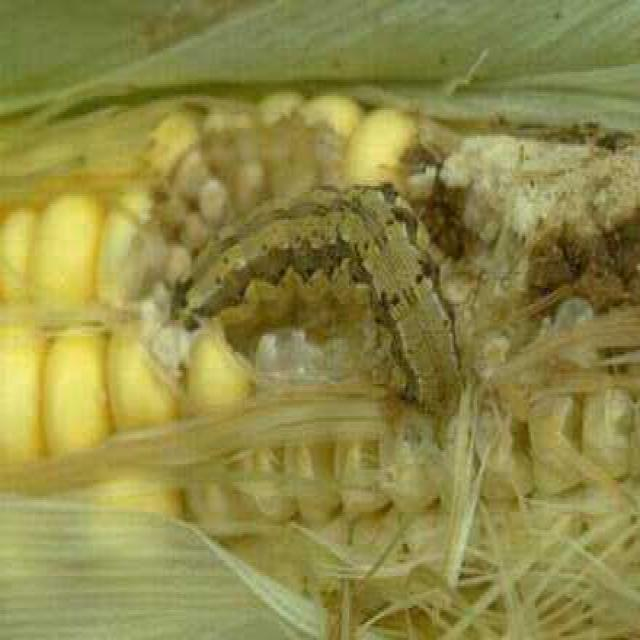worm: (155, 169, 479, 432)
